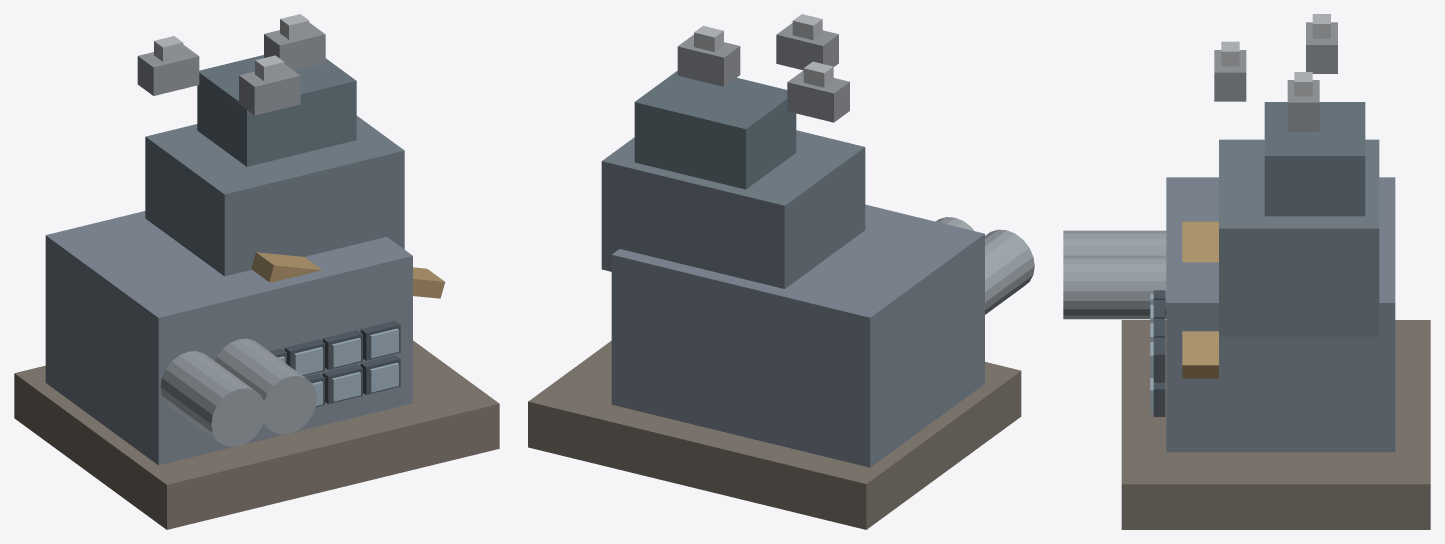
Rendered from mine_hq.glb.
The picture shows the model from 3 angles, left to right: view 1: azimuth 30°, elevation 25°; view 2: azimuth 150°, elevation 25°; view 3: azimuth 270°, elevation 25°; orthographic projection.
Visible parts, largest first — view 1: world; view 2: world; view 3: world.
Part boxes in pixels (left/top/right/bottom): world: left=14, top=14, right=499, bottom=529; world: left=528, top=14, right=1034, bottom=529; world: left=1063, top=14, right=1430, bottom=529.
Bounding box in the file's own units: 1.7 × 1.91 × 1.6.
